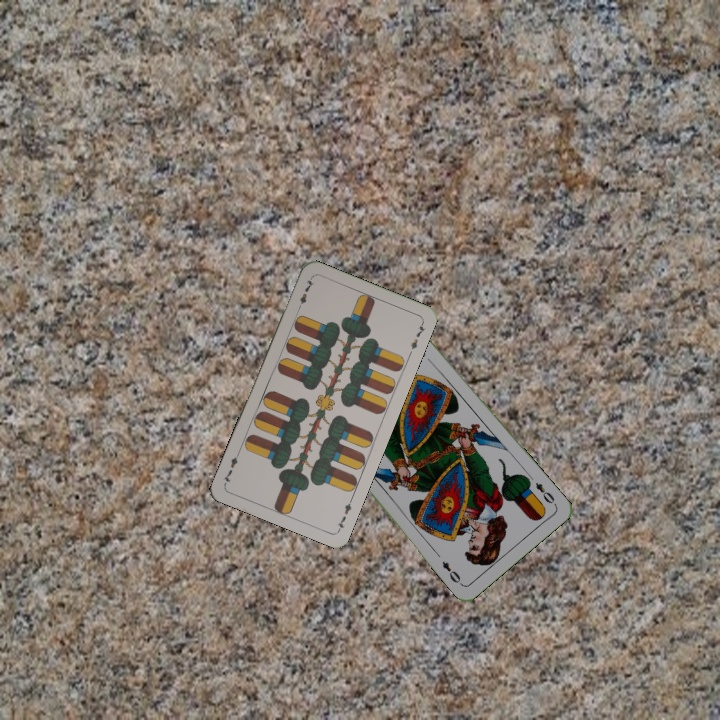E7: (294, 274, 317, 313), (333, 494, 355, 533)
EO: (531, 478, 559, 508)
